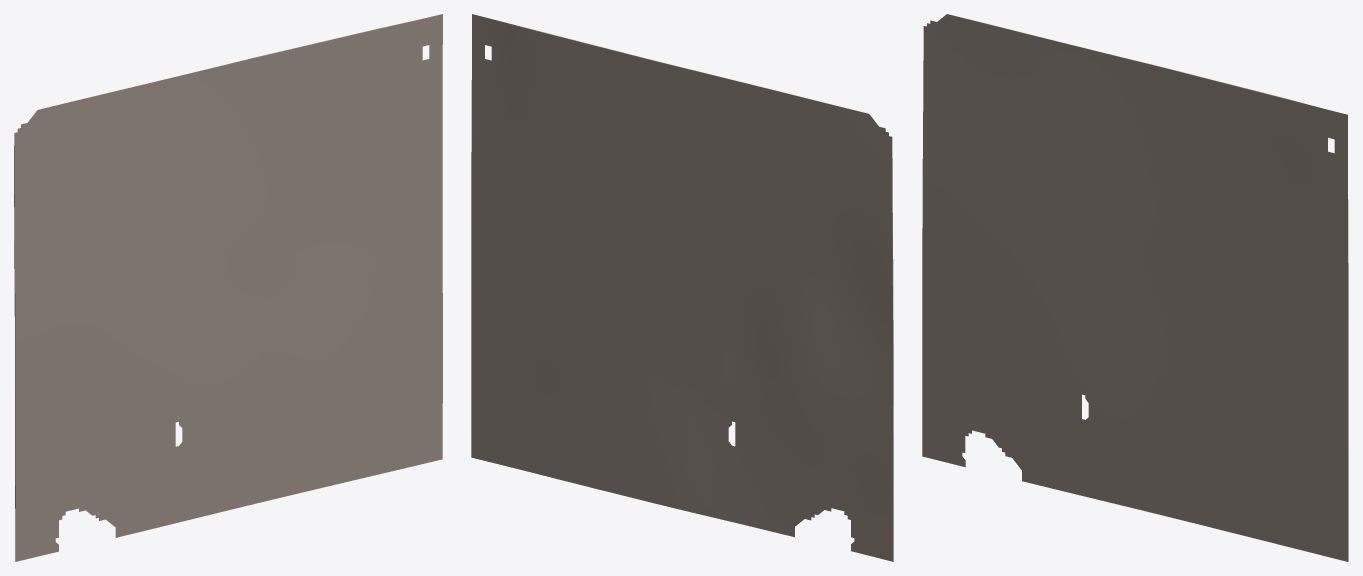
The picture shows the model from 3 angles, left to right: view 1: azimuth 30°, elevation 25°; view 2: azimuth 150°, elevation 25°; view 3: azimuth 330°, elevation 25°; orthographic projection.
Visible parts, largest first — view 1: world; view 2: world; view 3: world.
Part boxes in pixels (x1=…): world: x1=14, y1=14, x2=442, y2=561; world: x1=471, y1=14, x2=893, y2=561; world: x1=922, y1=14, x2=1348, y2=561.
Size of the model in its own units: 12800 by 12800 by 165.
